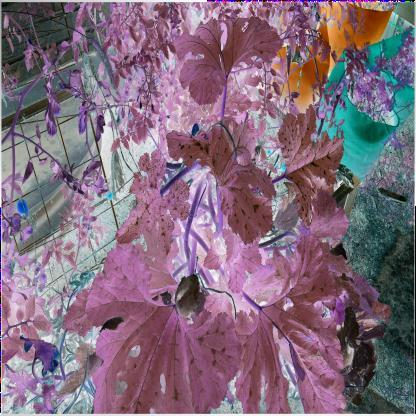Squash Powdery mildew leaf: (84, 248, 244, 404), (113, 148, 192, 256), (218, 160, 278, 250), (160, 116, 234, 182), (294, 134, 348, 186), (276, 101, 316, 166)
